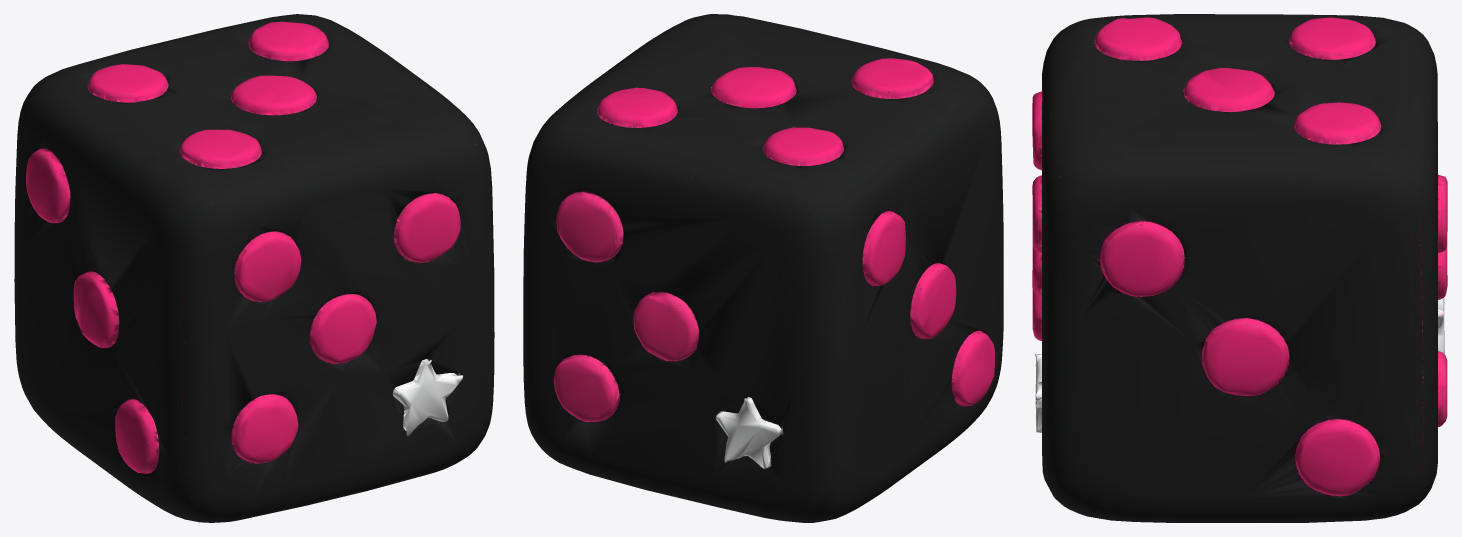
Rendered from poplur_dice_lite.glb.
3 renders of one model, left to right at view 1: azimuth 30°, elevation 25°; view 2: azimuth 150°, elevation 25°; view 3: azimuth 270°, elevation 25°, orthographic. The views are drawn at different scales.
Visible parts, largest first — view 1: mesh_node; view 2: mesh_node; view 3: mesh_node.
Boxes of the visible parts, box(x1,y1,x2,y2) form: mesh_node: box(14, 14, 494, 522); mesh_node: box(523, 14, 1003, 522); mesh_node: box(1032, 14, 1447, 522).
Bounding box in the file's own units: 1.89 × 1.9 × 1.86.
Materials: 1 (1 with a texture image).
